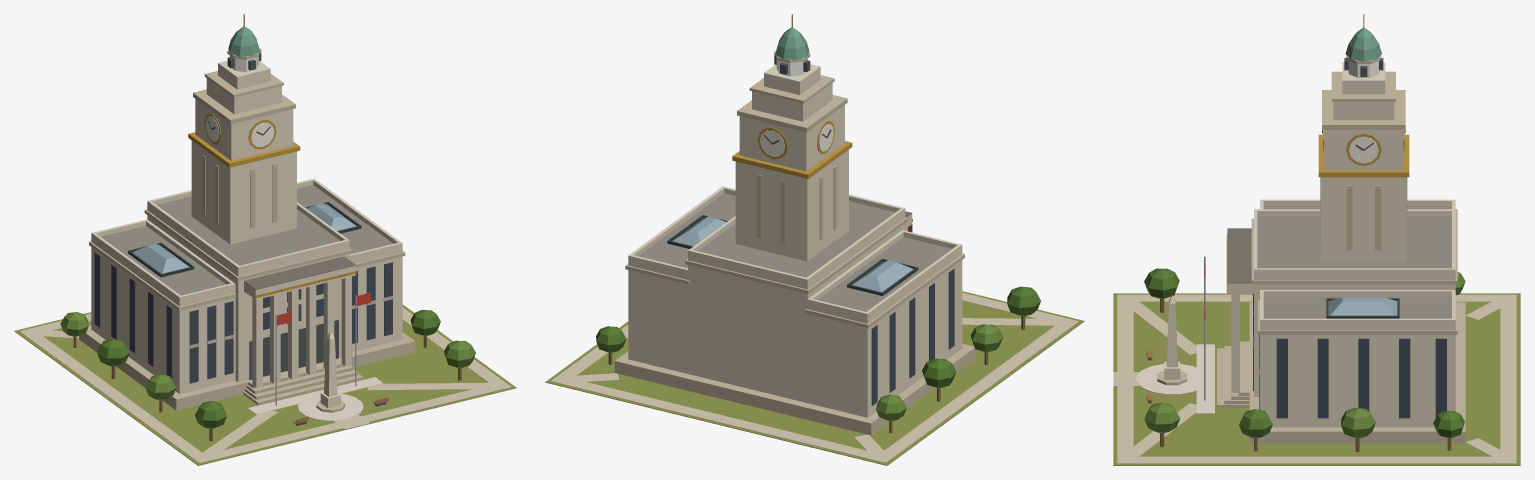
File: clocktower.glb
The picture shows the model from 3 angles, left to right: view 1: azimuth 30°, elevation 25°; view 2: azimuth 150°, elevation 25°; view 3: azimuth 270°, elevation 25°; orthographic projection. The views are drawn at different scales.
Visible parts, largest first — view 1: clocktower; view 2: clocktower; view 3: clocktower.
Boxes of the visible parts, x1=… form: clocktower: x1=14, y1=14, x2=516, y2=465; clocktower: x1=545, y1=14, x2=1084, y2=465; clocktower: x1=1113, y1=14, x2=1520, y2=465.
Size of the model in its own units: 40 by 39.6 by 40.
